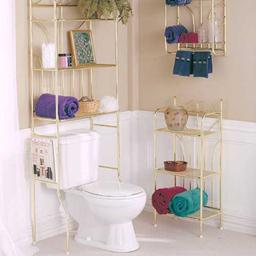Sanitario: (39, 132, 149, 253)
